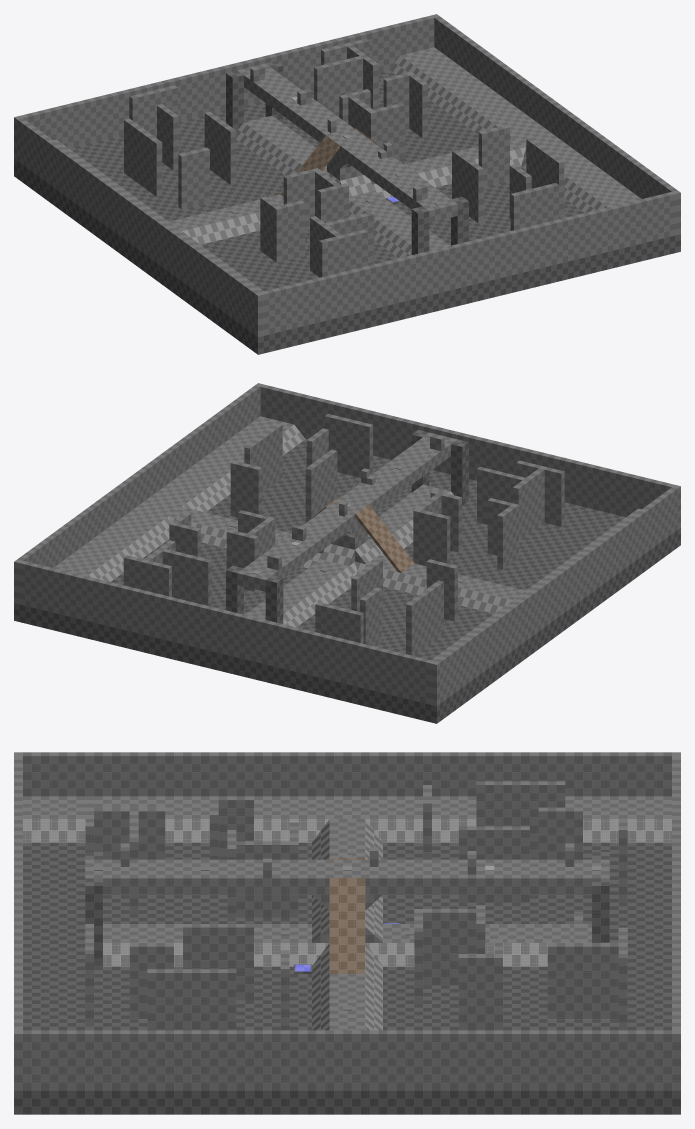
The model's file is Arena.gltf.
The picture shows the model from 3 angles, top to bottom: view 1: azimuth 30°, elevation 25°; view 2: azimuth 150°, elevation 25°; view 3: azimuth 270°, elevation 25°; orthographic projection. The views are drawn at different scales.
Parts seen in each view (by area): view 1: Brick (×42); view 2: Brick (×42); view 3: Brick (×40), Texture (×2).
Part boxes in pixels (bbox=[...]): Brick (×42): bbox=[14, 14, 680, 354]; Brick (×42): bbox=[14, 383, 680, 723]; Brick (×40): bbox=[14, 752, 680, 1114]; Texture (×2): bbox=[14, 756, 680, 1088].
Bounding box in the file's own units: 300 × 60.02 × 300.
